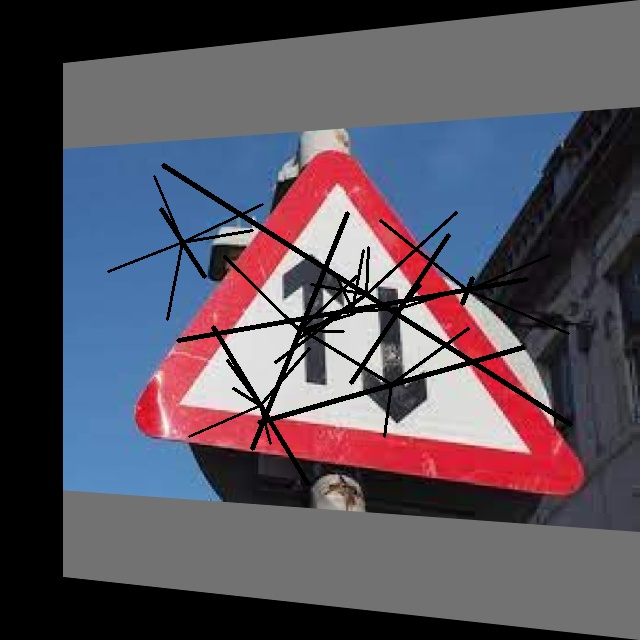Mandatory_Two_Way_Traffic: (159, 142, 572, 487)
